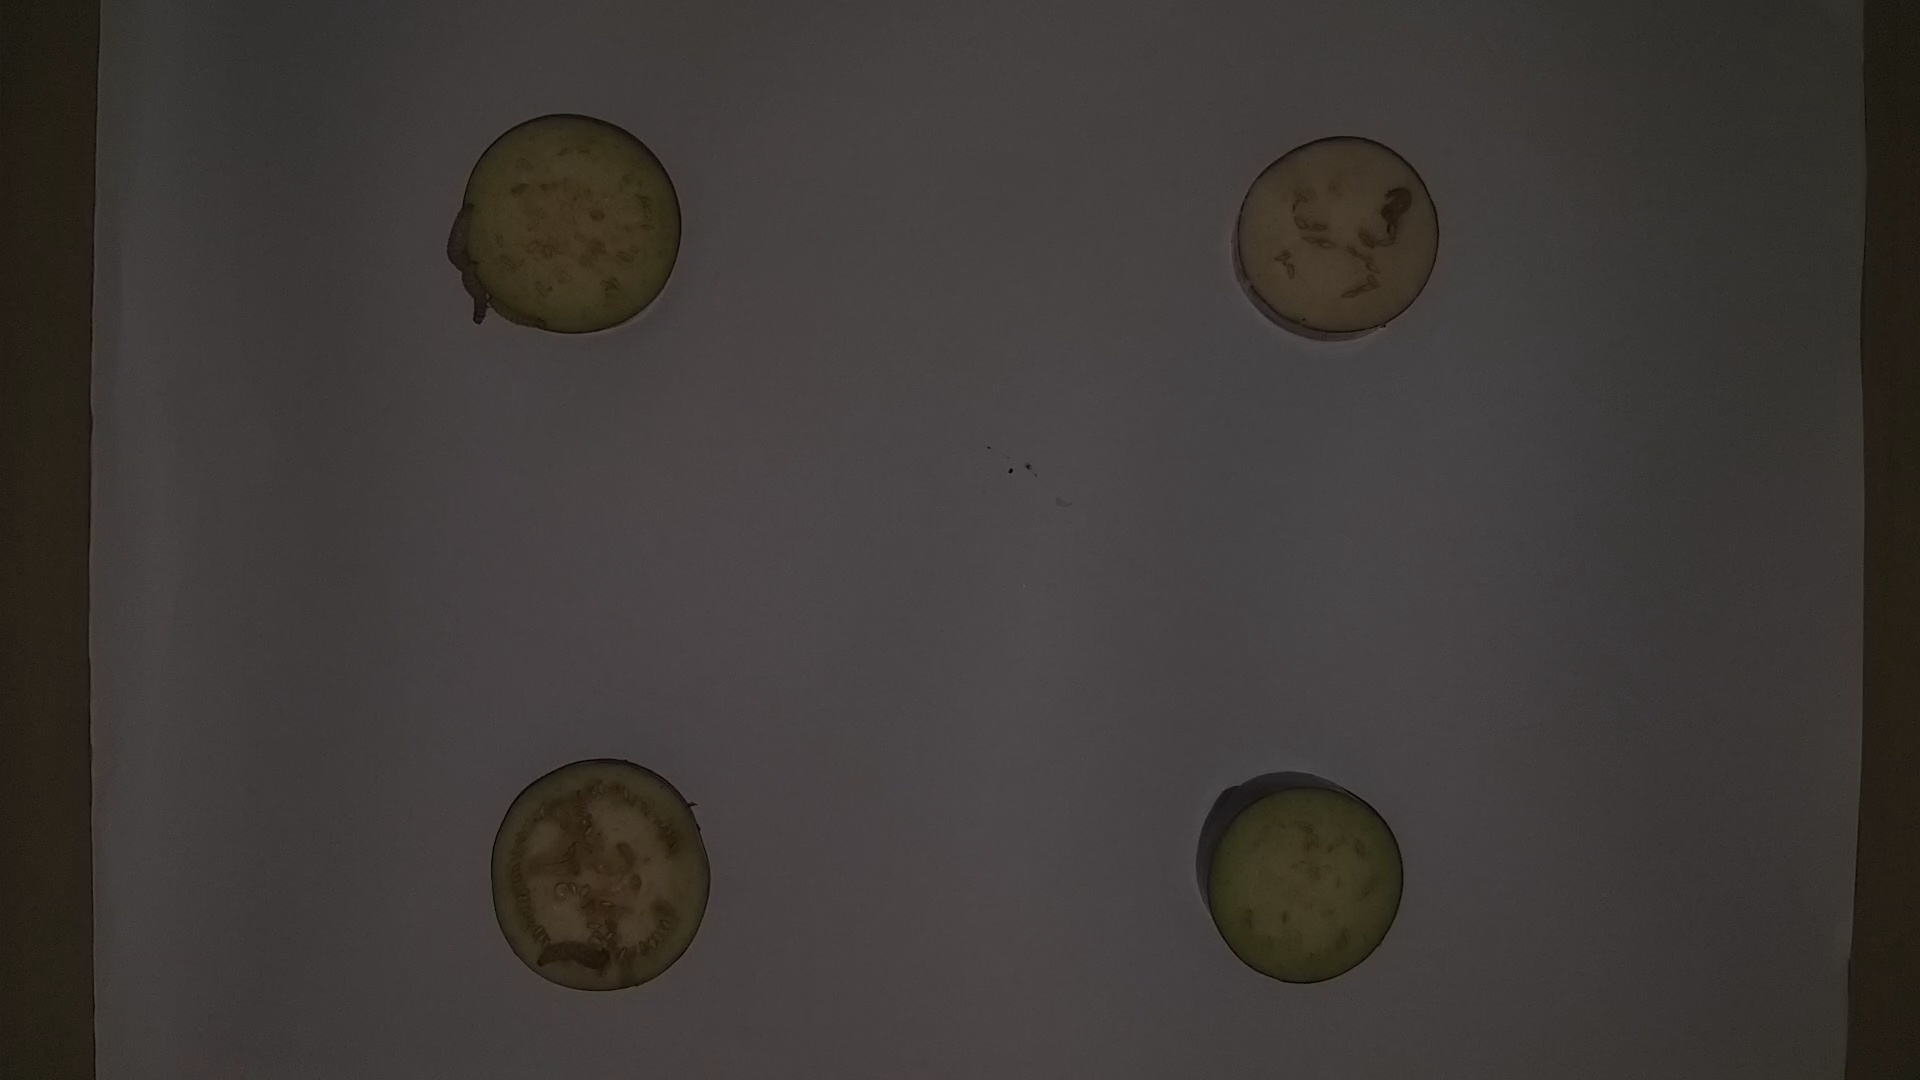efsb: (531, 932, 612, 977), (451, 256, 492, 328), (443, 200, 481, 277), (483, 291, 549, 331), (1383, 185, 1416, 227)
eggplant: (484, 752, 713, 1001), (456, 105, 688, 339), (1187, 761, 1414, 997), (1226, 131, 1447, 347)
